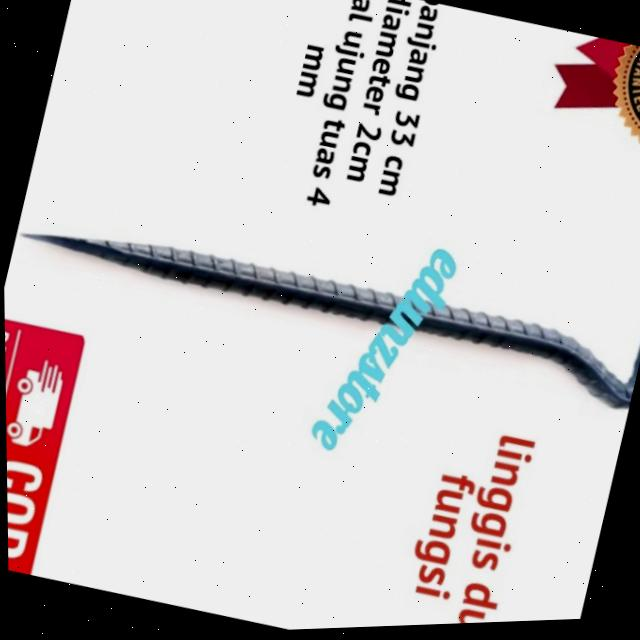crow bar: (15, 229, 640, 419)
